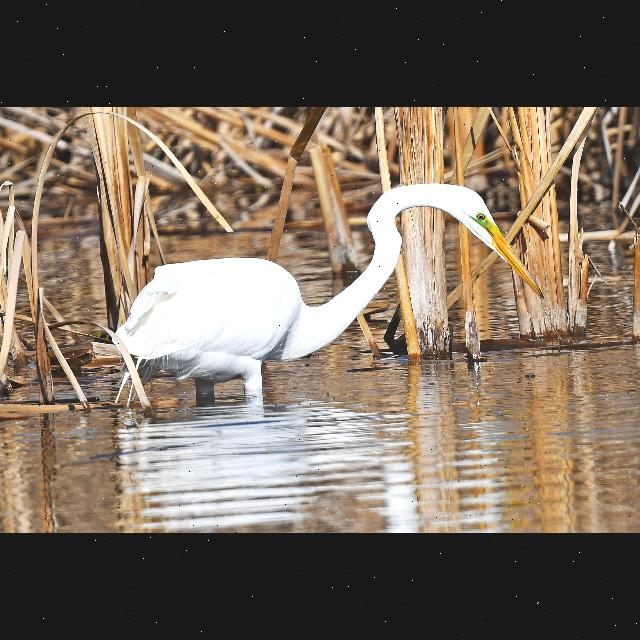egret: (116, 184, 542, 400)
